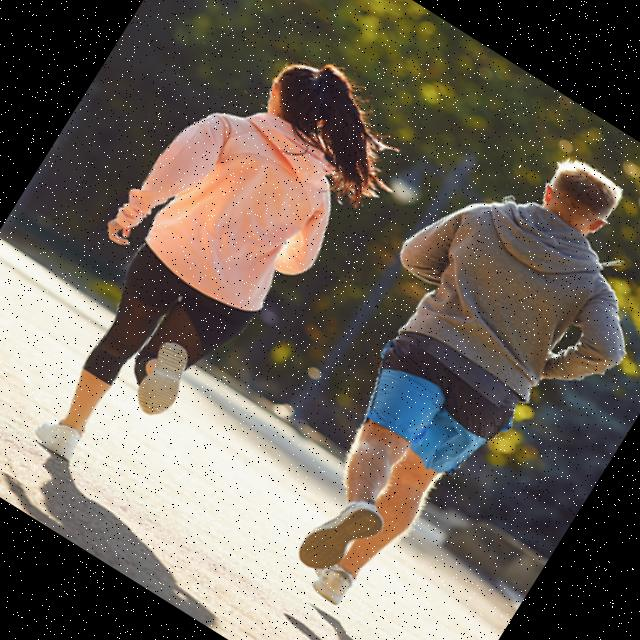Person: (219, 104, 640, 640), (0, 8, 407, 516)
